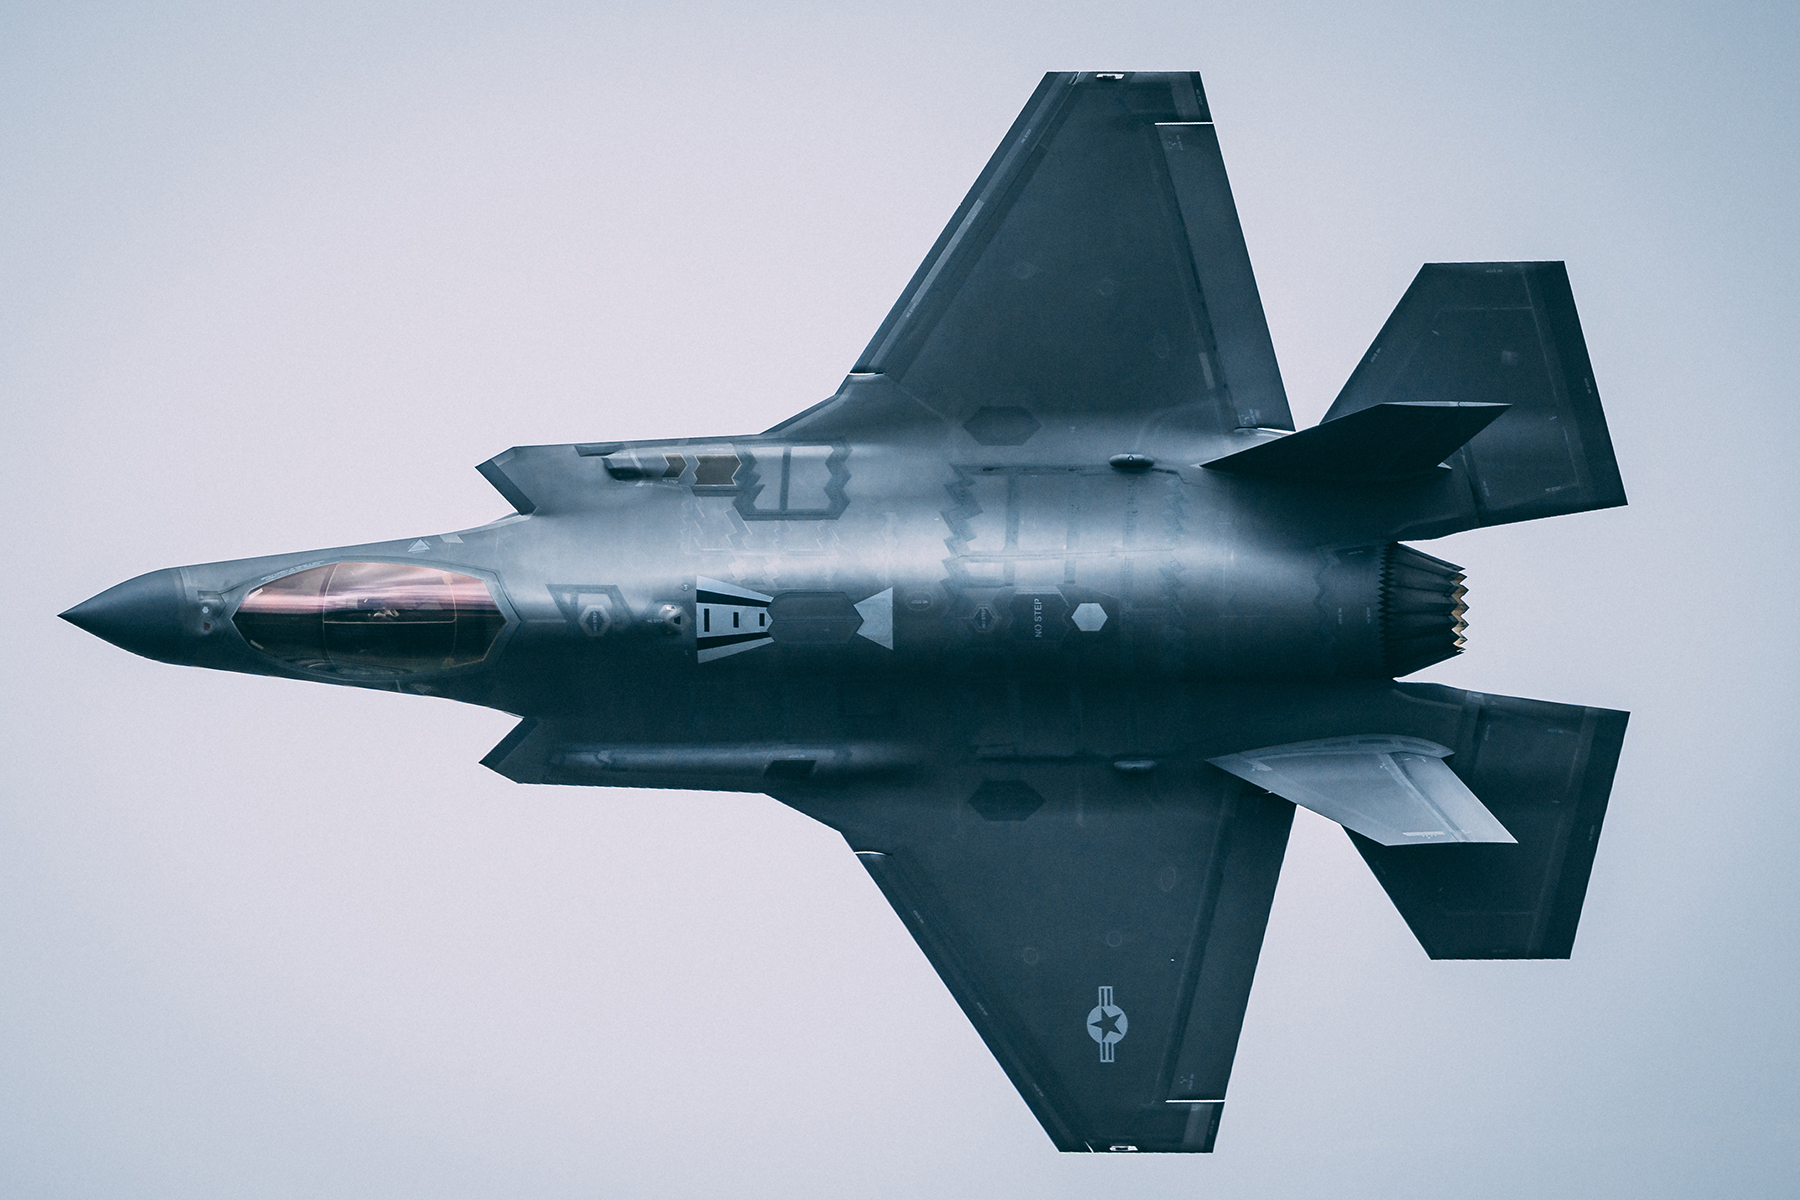F-35 Lightning: (31, 70, 1639, 1153)
